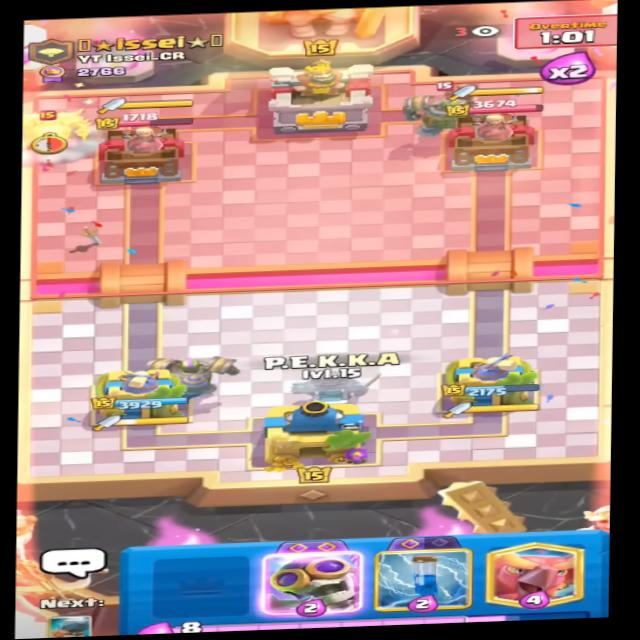goblin-machine: (397, 74, 509, 134)
pekka: (15, 105, 98, 151)
